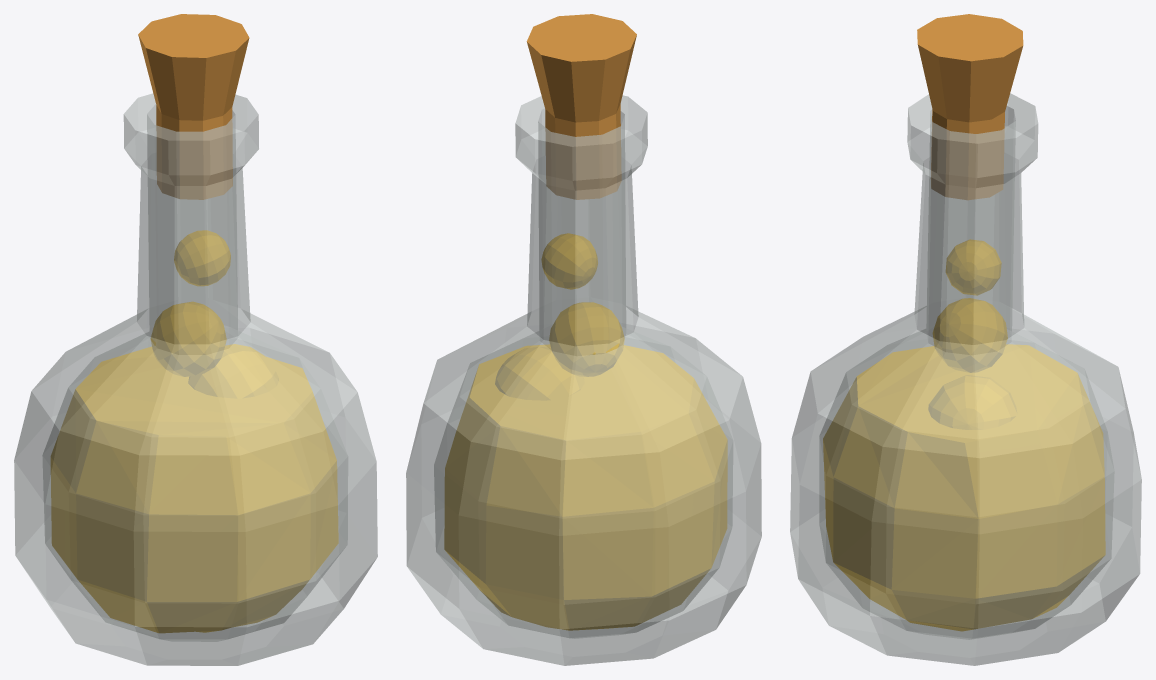
File: flask.fbx
The picture shows the model from 3 angles, left to right: view 1: azimuth 30°, elevation 25°; view 2: azimuth 150°, elevation 25°; view 3: azimuth 270°, elevation 25°; orthographic projection.
Parts seen in each view (by area): view 1: group2068853349.001, group2068853349.002, group2068853349; view 2: group2068853349.001, group2068853349.002, group2068853349; view 3: group2068853349.001, group2068853349.002, group2068853349.
Part boxes in pixels (<box>): group2068853349.001: <box>14,93,377,665</box>; group2068853349.002: <box>51,230,338,632</box>; group2068853349: <box>138,14,249,199</box>; group2068853349.001: <box>406,95,761,665</box>; group2068853349.002: <box>444,233,727,630</box>; group2068853349: <box>526,14,636,199</box>; group2068853349.001: <box>790,93,1141,665</box>; group2068853349.002: <box>823,239,1105,631</box>; group2068853349: <box>917,14,1023,199</box>.
Bounding box in the file's own units: 18.97 × 34.08 × 18.53.
